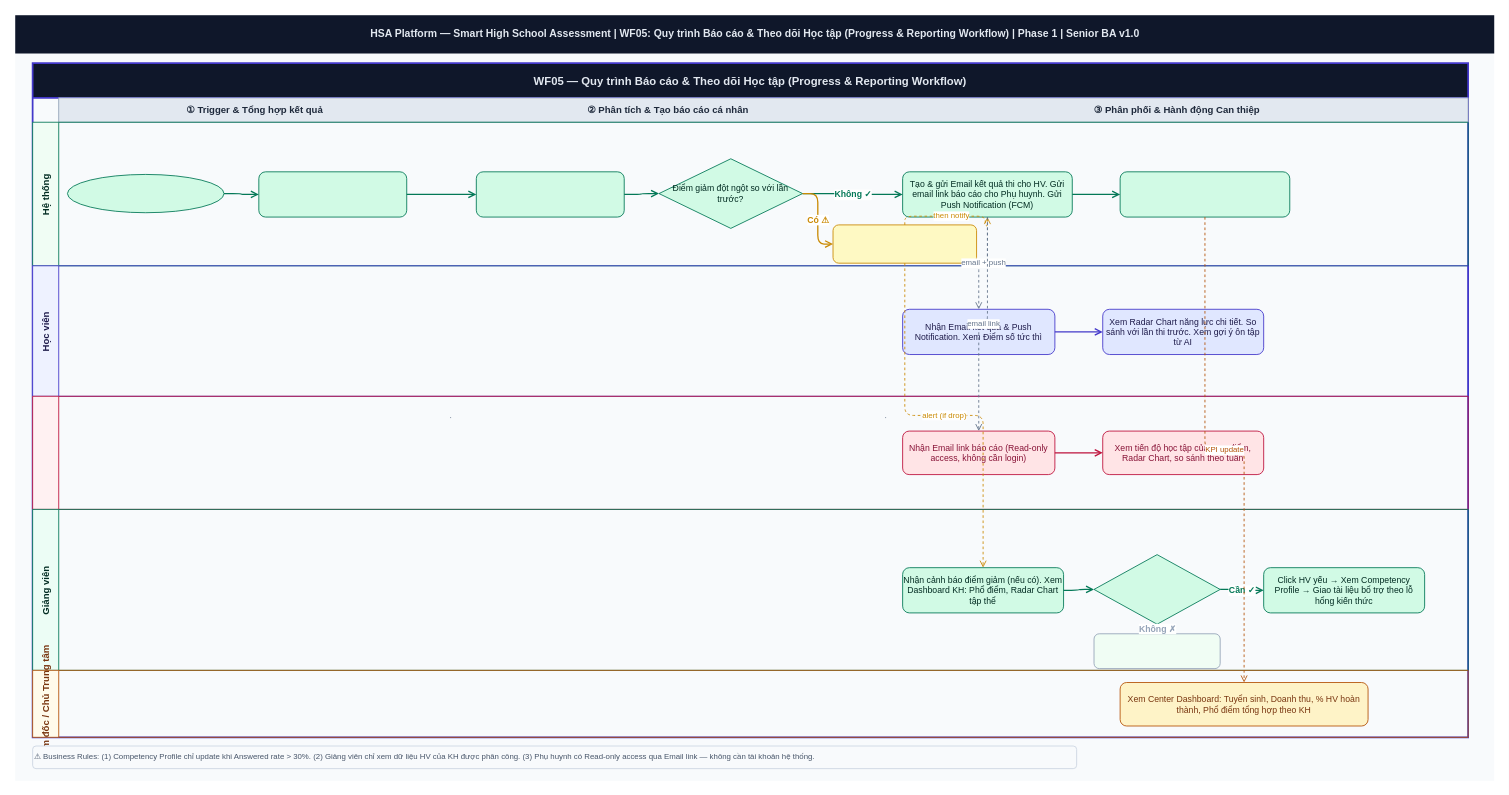
The diagram is 1509 pixels wide and 795 high, and some of its shapes have lost their labels. The shapes that lost their labels are listed below. From the top down, each one's box as (x1, y1, x2, y2) in pixels, then its label:
(67, 174, 224, 213): Trigger: Học viên hoàn tất bài thi có Answered rate > 30%
(258, 171, 407, 217): Tổng hợp điểm số theo từng Topic / Phân môn từ ExamAttempt
(475, 171, 624, 217): Tạo Radar Chart cá nhân. Cập nhật Competency Profile tích lũy
(1119, 171, 1290, 217): Cập nhật Center Dashboard: Thống kê tổng hợp phổ điểm, tỷ lệ hoàn thành KH
(832, 224, 977, 263): Gửi cảnh báo đến Giảng viên phụ trách & Phụ huynh (Email alert)
(32, 395, 1468, 509): Phụ huynh
(1093, 554, 1220, 624): Cần can thiệp học viên yếu?
(1093, 633, 1220, 669): Tiếp tục theo dõi định kỳ
